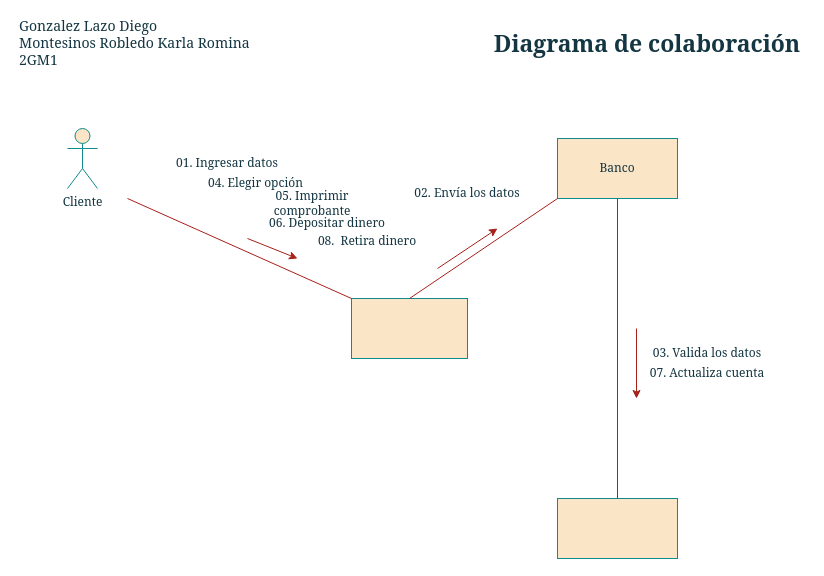
Some shapes in this 824 by 576 pixel diagram are drawn without their labels. The shapes that lost their labels are listed below. From the top down, each one's box as (x1, y1, x2, y2) in pixels, then its label:
(350, 298, 468, 358): ATM
(556, 498, 678, 558): Sistema
